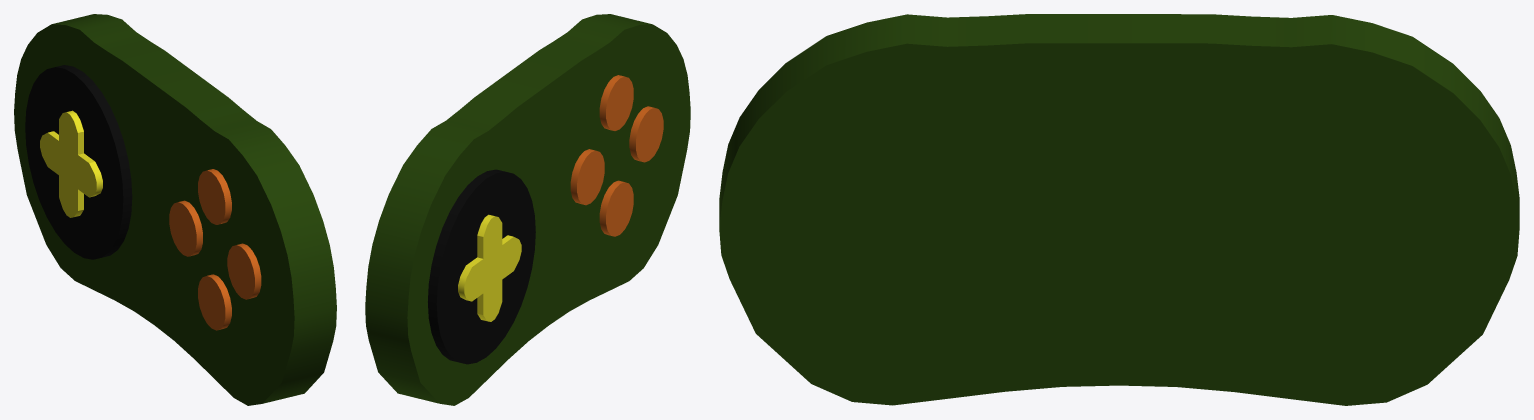
File: game icon.fbx
The picture shows the model from 3 angles, left to right: view 1: azimuth 30°, elevation 25°; view 2: azimuth 150°, elevation 25°; view 3: azimuth 270°, elevation 25°; orthographic projection. The views are drawn at different scales.
Visible parts, largest first — view 1: games; view 2: games; view 3: games.
Boxes of the visible parts, x1=… form: games: x1=14, y1=14, x2=336, y2=405; games: x1=365, y1=14, x2=690, y2=405; games: x1=719, y1=14, x2=1519, y2=405.
Size of the model in its own units: 10.52 by 44.28 by 88.67.
1 material, 1 textured.
